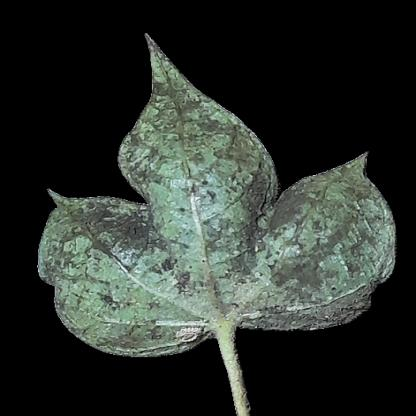curl_stage2: (168, 281, 217, 338)
sooty: (220, 194, 360, 292), (42, 208, 160, 286), (135, 112, 221, 194), (234, 290, 356, 338), (161, 194, 224, 274), (63, 284, 142, 336), (216, 140, 268, 195)
